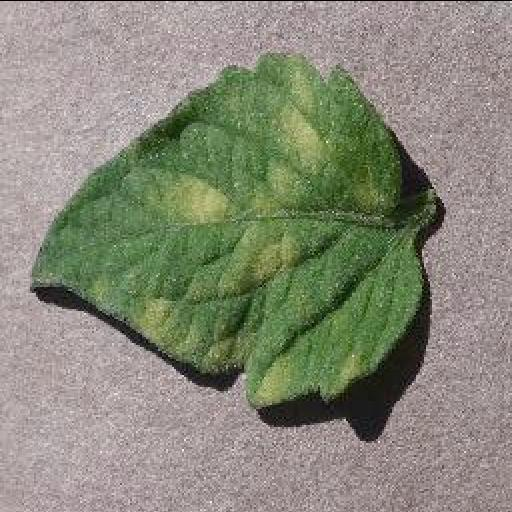disease_tomato: (25, 50, 427, 406)
